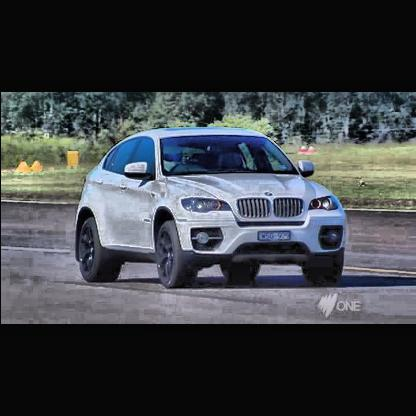BMW X6 SUV 2012: (75, 127, 346, 290)
